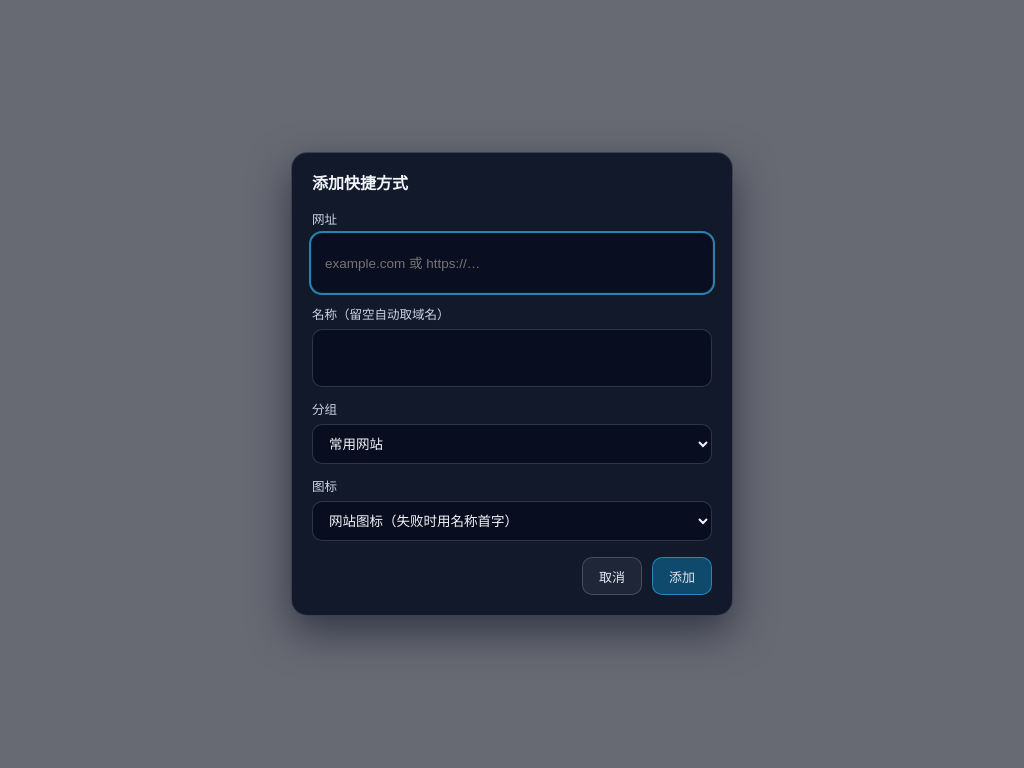
Test: ShortcutQuickAdd 提交 › 空网址报错
This screenshot has width=1024, height=768.
Expected: the dialog "添加快捷方式" is shown, [291,152,733,616]
Step 1. Click the button "添加" → coordinates (682, 576), box [652,557,712,595]
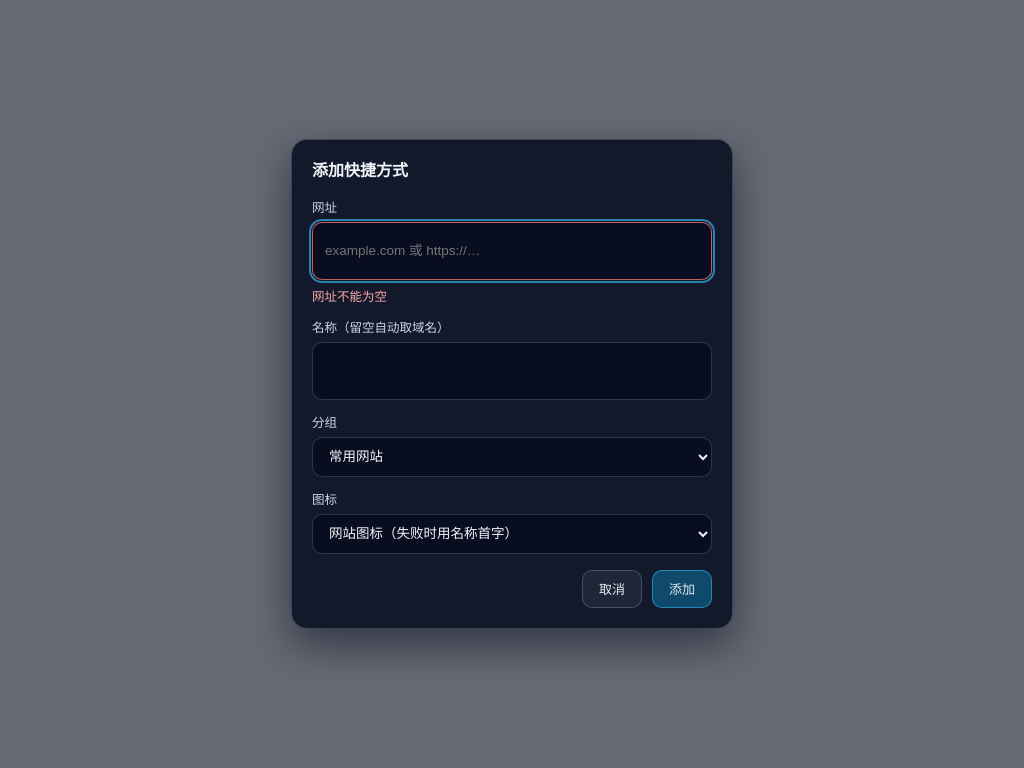
Expected: the message reads "网址不能为空", [312,290,387,304]
